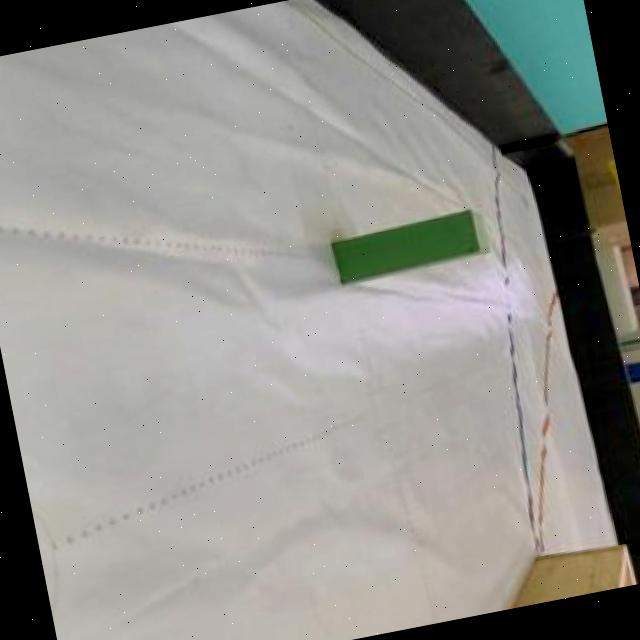greenbox: (330, 206, 492, 284)
